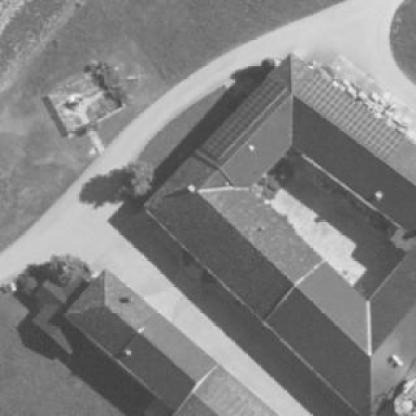solar-pv-panel: (294, 69, 406, 162), (200, 73, 287, 159)
